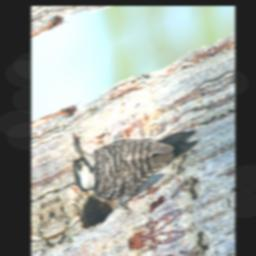Woodpecker: (67, 81, 208, 239)
